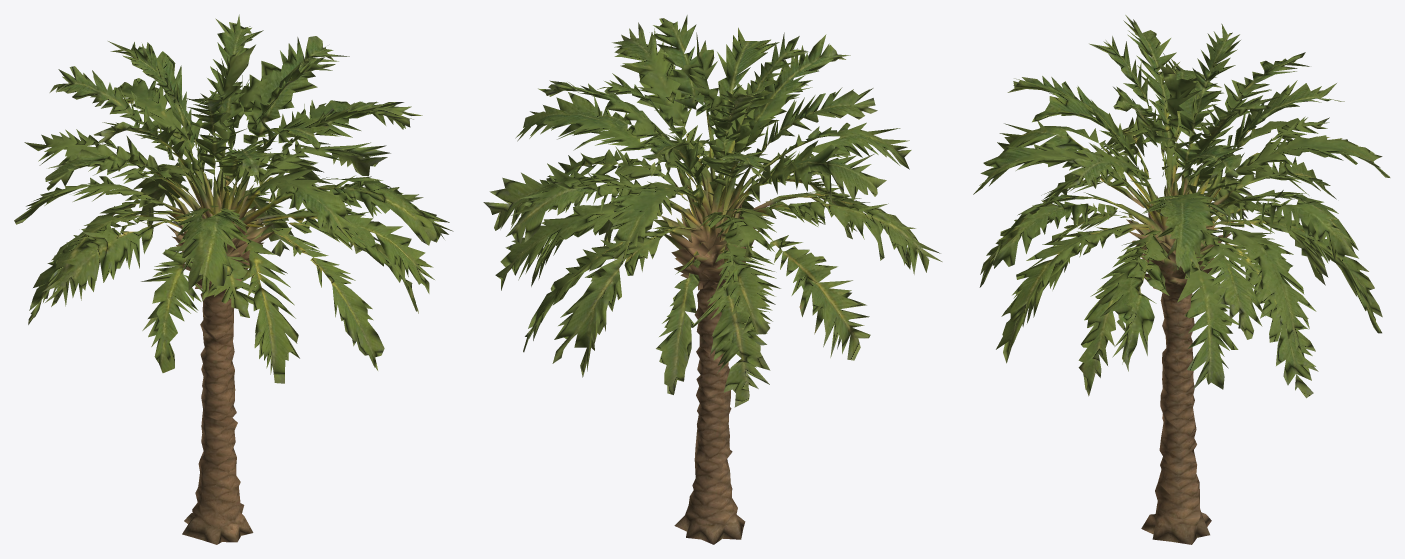
File: kw_palm.glb
3 views of the same model, side by side, from view 1: azimuth 30°, elevation 25°; view 2: azimuth 150°, elevation 25°; view 3: azimuth 270°, elevation 25° (orthographic).
Visible parts, largest first — view 1: frame; view 2: frame; view 3: frame.
Boxes of the visible parts, <box> form: frame: <box>14,14,453,544</box>; frame: <box>483,15,942,544</box>; frame: <box>973,15,1390,544</box>.
Bounding box in the file's own units: 9.55 × 10.93 × 8.62.
Materials: 1 (1 with a texture image).
